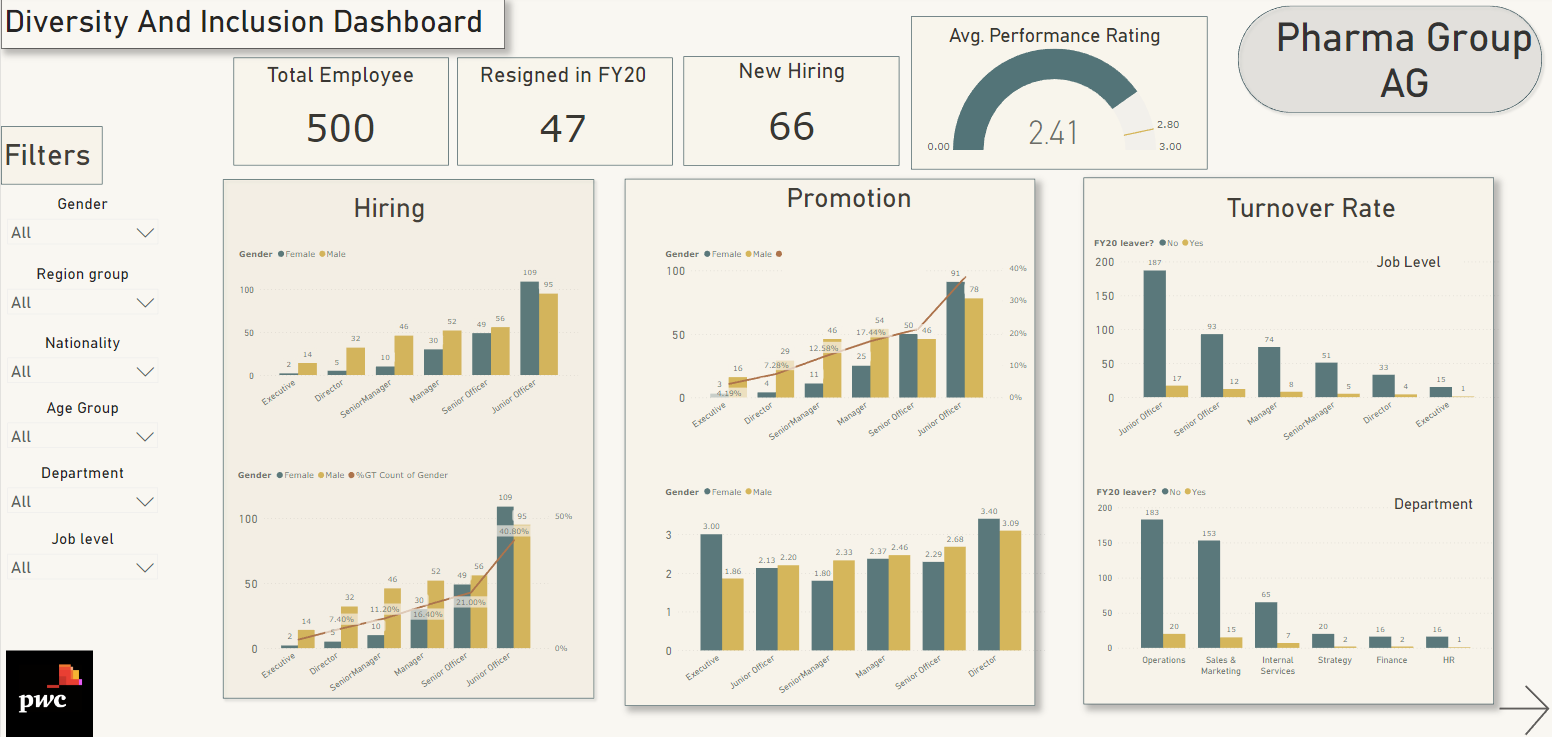

The page's visual inventory and layout, read from the dashboard file:
{"tool":"powerbi","page":{"name":"Page 1","canvas":[2500,1200],"ordinal":0},"visuals":[{"type":"lineClusteredColumnComboChart","title":"Hiring","fields":{"Category":["Pharma Group AG.Job Level after FY20 promotions"],"Series":["Pharma Group AG.Gender"],"Y":["CountNonNull(Pharma Group AG.Gender)"]},"box":[377.5,395,555,300],"z":0},{"type":"lineClusteredColumnComboChart","fields":{"Category":["Pharma Group AG.Job Level after FY20 promotions"],"Series":["Pharma Group AG.Gender"],"Y":["CountNonNull(Pharma Group AG.Gender)"],"Y2":["Divide(CountNonNull(Pharma Group AG.Gender), ScopedEval(CountNonNull(Pharma Group AG.Gender), []))"]},"box":[375,752.5,557.5,387.5],"z":1000},{"type":"slicer","title":"Gender","fields":{"Values":["Pharma Group AG.Gender"]},"box":[0,322.5,262.5,97.5],"z":2000},{"type":"lineClusteredColumnComboChart","fields":{"Category":["Pharma Group AG.Job Level after FY21 promotions"],"Y":["CountNonNull(Pharma Group AG.Gender)"],"Series":["Pharma Group AG.Gender"],"Y2":["Divide(CountNonNull(Pharma Group AG.Gender), ScopedEval(CountNonNull(Pharma Group AG.Gender), []))"]},"box":[1062.5,395,600,340],"z":3000},{"type":"clusteredColumnChart","fields":{"Category":["Pharma Group AG.Job Level after FY20 promotions"],"Series":["Pharma Group AG.Gender"],"Y":["Avg(Pharma Group AG.Time in Job Level @01.07.2020)"]},"box":[1062.5,777.5,620,365],"z":4000},{"type":"card","title":"Total Employee","fields":{"Values":["CountNonNull(Pharma Group AG.Employee ID)"]},"box":[376.7,106.7,340,166.7],"z":5000},{"type":"gauge","title":"Avg.  Performance Rating","fields":{"Y":["Avg(Pharma Group AG.FY20 Performance Rating)"]},"box":[1450,46.7,490,213.3],"z":6000},{"type":"slicer","title":"Nationality","fields":{"Values":["Pharma Group AG.Nationality 1"]},"box":[0,545,262.5,85],"z":7000},{"type":"slicer","title":"Age Group","fields":{"Values":["Pharma Group AG.Age group"]},"box":[0,650,262.3,90],"z":7001},{"type":"slicer","title":"Department","fields":{"Values":["Pharma Group AG.Department @01.07.2020"]},"box":[0,753.8,262.3,93.1],"z":7002},{"type":"textbox","box":[0,6.7,810,80],"z":7003},{"type":"slicer","title":"Job level","fields":{"Values":["Pharma Group AG.Job Level after FY21 promotions"]},"box":[0,860.8,262.3,112.3],"z":7004},{"type":"actionButton","box":[2400,1102.5,100,97.5],"z":7005},{"type":"textbox","box":[500,312.5,247.5,82.5],"z":7006},{"type":"shape","box":[347.5,287.5,615,852.5],"z":7007},{"type":"textbox","box":[1257.5,295,227.5,150],"z":7008},{"type":"shape","box":[1002.5,295,660,847.5],"z":7009},{"type":"textbox","box":[1965,312.5,292.5,100],"z":7010},{"type":"shape","box":[373.3,100,346.7,173.3],"z":7012},{"type":"image","box":[0,1050,155,150],"z":7013},{"type":"slicer","title":"Region group","fields":{"Values":["Pharma Group AG.Region group: nationality 1"]},"box":[0,435,262.5,110],"z":7014},{"type":"textbox","box":[0,223.3,163.3,65],"z":7015},{"type":"shape","box":[0,211.7,163.3,93.3],"z":7016},{"type":"card","title":"Resigned in FY20","fields":{"Values":["CountNonNull(Pharma Group AG.Leaver FY)"]},"box":[746.7,106.7,316.7,166.7],"z":7017},{"type":"card","title":"New Hiring","fields":{"Values":["CountNonNull(Pharma Group AG.New hire FY20?)"]},"box":[1111.2,100,320,173.8],"z":7018},{"type":"shape","box":[733.3,100,346.7,173.3],"z":7019},{"type":"shape","box":[1463.3,33.3,476.7,246.7],"z":7020},{"type":"shape","box":[1097.5,98.8,347.5,176.2],"z":7023},{"type":"textbox","box":[2017.5,25,477.5,187.5],"z":7024},{"type":"shape","box":[1980,7.5,507.5,190],"z":7025},{"type":"clusteredColumnChart","fields":{"Category":["Pharma Group AG.Job Level after FY20 promotions"],"Series":["Pharma Group AG.FY20 leaver?"],"Y":["CountNonNull(Pharma Group AG.FY20 leaver?)"]},"box":[1752.5,377.5,660,357.5],"z":7026},{"type":"clusteredColumnChart","fields":{"Category":["Pharma Group AG.Department @01.07.2020"],"Series":["Pharma Group AG.FY20 leaver?"],"Y":["CountNonNull(Pharma Group AG.FY20 leaver?)"]},"box":[1757.5,777.5,650,325],"z":7027},{"type":"textbox","box":[2235,800,165,67.5],"z":7028},{"type":"textbox","box":[2207.5,410,145,50],"z":7029},{"type":"shape","box":[1740,292.5,660,847.5],"z":7030}]}

Visuals, with their boxes in screenshot pixels (x1, y1, x2, y2), scaled from the page's 2500x1200 canvas onto the 1552x737 screenshot:
"Hiring" lineClusteredColumnComboChart: crop(234, 243, 579, 427)
lineClusteredColumnComboChart - Pharma Group AG.Job Level after FY20 promotions x Pharma Group AG.Gender: crop(233, 462, 579, 700)
"Gender" slicer: crop(0, 198, 163, 258)
lineClusteredColumnComboChart - Pharma Group AG.Job Level after FY21 promotions x CountNonNull(Pharma Group AG.Gender): crop(660, 243, 1032, 451)
clusteredColumnChart - Pharma Group AG.Job Level after FY20 promotions x Pharma Group AG.Gender: crop(660, 478, 1044, 702)
"Total Employee" card: crop(234, 66, 445, 168)
"Avg.  Performance Rating" gauge: crop(900, 29, 1204, 160)
"Nationality" slicer: crop(0, 335, 163, 387)
"Age Group" slicer: crop(0, 399, 163, 454)
"Department" slicer: crop(0, 463, 163, 520)
textbox: crop(0, 4, 503, 53)
"Job level" slicer: crop(0, 529, 163, 598)
actionButton: crop(1490, 677, 1551, 736)
textbox: crop(310, 192, 464, 243)
shape: crop(216, 177, 598, 700)
textbox: crop(781, 181, 922, 273)
shape: crop(622, 181, 1032, 702)
textbox: crop(1220, 192, 1401, 253)
shape: crop(232, 61, 447, 168)
image: crop(0, 645, 96, 736)
"Region group" slicer: crop(0, 267, 163, 335)
textbox: crop(0, 137, 101, 177)
shape: crop(0, 130, 101, 187)
"Resigned in FY20" card: crop(464, 66, 660, 168)
"New Hiring" card: crop(690, 61, 888, 168)
shape: crop(455, 61, 670, 168)
shape: crop(908, 20, 1204, 172)
shape: crop(681, 61, 897, 169)
textbox: crop(1252, 15, 1549, 131)
shape: crop(1229, 5, 1544, 121)
clusteredColumnChart - Pharma Group AG.Job Level after FY20 promotions x Pharma Group AG.FY20 leaver?: crop(1088, 232, 1498, 451)
clusteredColumnChart - Pharma Group AG.Department @01.07.2020 x Pharma Group AG.FY20 leaver?: crop(1091, 478, 1495, 677)
textbox: crop(1387, 491, 1490, 533)
textbox: crop(1370, 252, 1460, 283)
shape: crop(1080, 180, 1490, 700)
